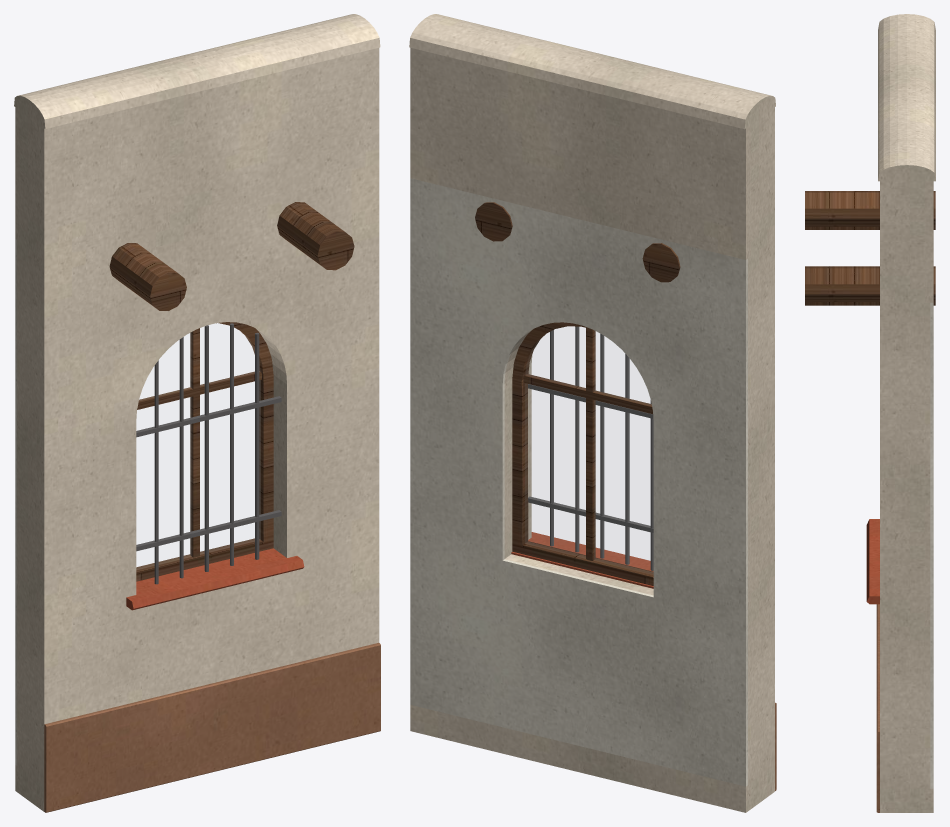
File: c_wall_window.glb
3 views of the same model, side by side, from view 1: azimuth 30°, elevation 25°; view 2: azimuth 150°, elevation 25°; view 3: azimuth 270°, elevation 25° (orthographic). The views are drawn at different scales.
Visible parts, largest first — view 1: c_wall_window_render, c_wall_window_plinth, folha_glass, folha_wood, c_wall_window_iron, c_wall_window_wood, c_wall_window_tile_clay, c_wall_window_plaster; view 2: c_wall_window_plaster, c_wall_window_render, folha_glass, folha_wood, c_wall_window_iron, c_wall_window_wood, c_wall_window_tile_clay; view 3: c_wall_window_render, c_wall_window_wood, c_wall_window_plaster, c_wall_window_tile_clay, c_wall_window_plinth.
Part boxes in pixels (left/top/right/bottom): c_wall_window_render: left=14, top=14, right=380, bottom=811; c_wall_window_plinth: left=44, top=642, right=380, bottom=812; folha_glass: left=137, top=323, right=260, bottom=569; folha_wood: left=136, top=322, right=273, bottom=581; c_wall_window_iron: left=136, top=323, right=281, bottom=584; c_wall_window_wood: left=109, top=202, right=354, bottom=310; c_wall_window_tile_clay: left=126, top=548, right=304, bottom=610; c_wall_window_plaster: left=15, top=239, right=16, bottom=765; c_wall_window_plaster: left=410, top=178, right=747, bottom=786; c_wall_window_render: left=409, top=14, right=775, bottom=812; folha_glass: left=525, top=327, right=652, bottom=573; folha_wood: left=512, top=322, right=653, bottom=585; c_wall_window_iron: left=528, top=326, right=653, bottom=570; c_wall_window_wood: left=475, top=202, right=680, bottom=282; c_wall_window_tile_clay: left=511, top=532, right=653, bottom=588; c_wall_window_render: left=878, top=14, right=935, bottom=812; c_wall_window_wood: left=805, top=191, right=935, bottom=305; c_wall_window_plaster: left=930, top=302, right=933, bottom=788; c_wall_window_tile_clay: left=866, top=519, right=879, bottom=604; c_wall_window_plinth: left=876, top=604, right=879, bottom=812.
Bounding box in the file's own units: 2 × 4 × 0.732.
7 materials, 5 textured.
